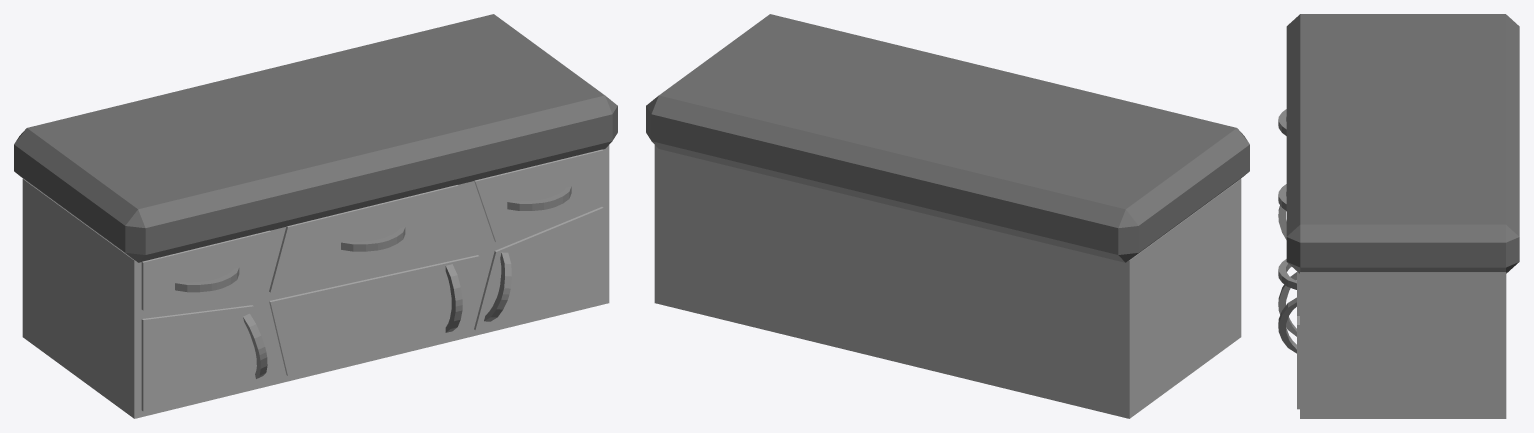
File: kitchenBench.fbx
3 renders of one model, left to right at view 1: azimuth 30°, elevation 25°; view 2: azimuth 150°, elevation 25°; view 3: azimuth 270°, elevation 25°, orthographic. The views are drawn at different scales.
Parts seen in each view (by area): view 1: geo_kitchenBench; view 2: geo_kitchenBench; view 3: geo_kitchenBench.
Part boxes in pixels (x1,y1,x2,y2): geo_kitchenBench: [14, 14, 617, 418]; geo_kitchenBench: [646, 14, 1249, 418]; geo_kitchenBench: [1278, 14, 1519, 418].
Size of the model in its own units: 14.48 by 5.86 by 6.64.
Materials: 1 (1 with a texture image).
